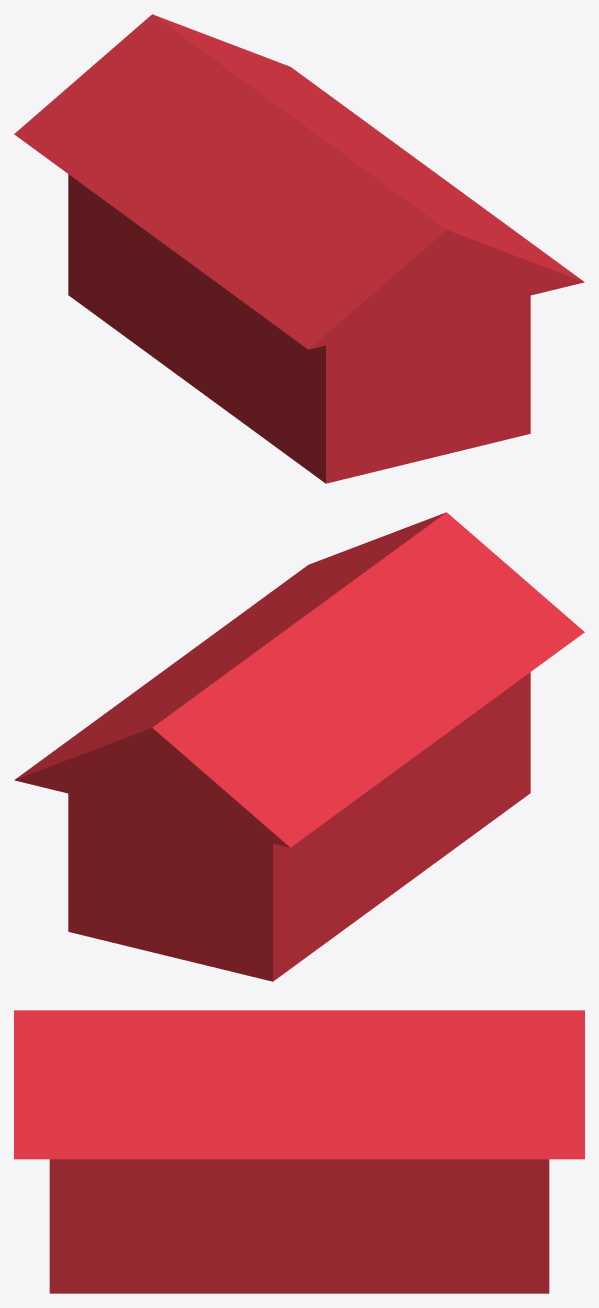
The picture shows the model from 3 angles, top to bottom: view 1: azimuth 30°, elevation 25°; view 2: azimuth 150°, elevation 25°; view 3: azimuth 270°, elevation 25°; orthographic projection. The views are drawn at different scales.
Parts seen in each view (by area): view 1: Cube; view 2: Cube; view 3: Cube.
Part boxes in pixels (x1,y1,x2,y2): Cube: [14, 14, 584, 483]; Cube: [14, 512, 584, 981]; Cube: [14, 1010, 584, 1293].
Bounding box in the file's own units: 2.7 × 2.26 × 4.98.
